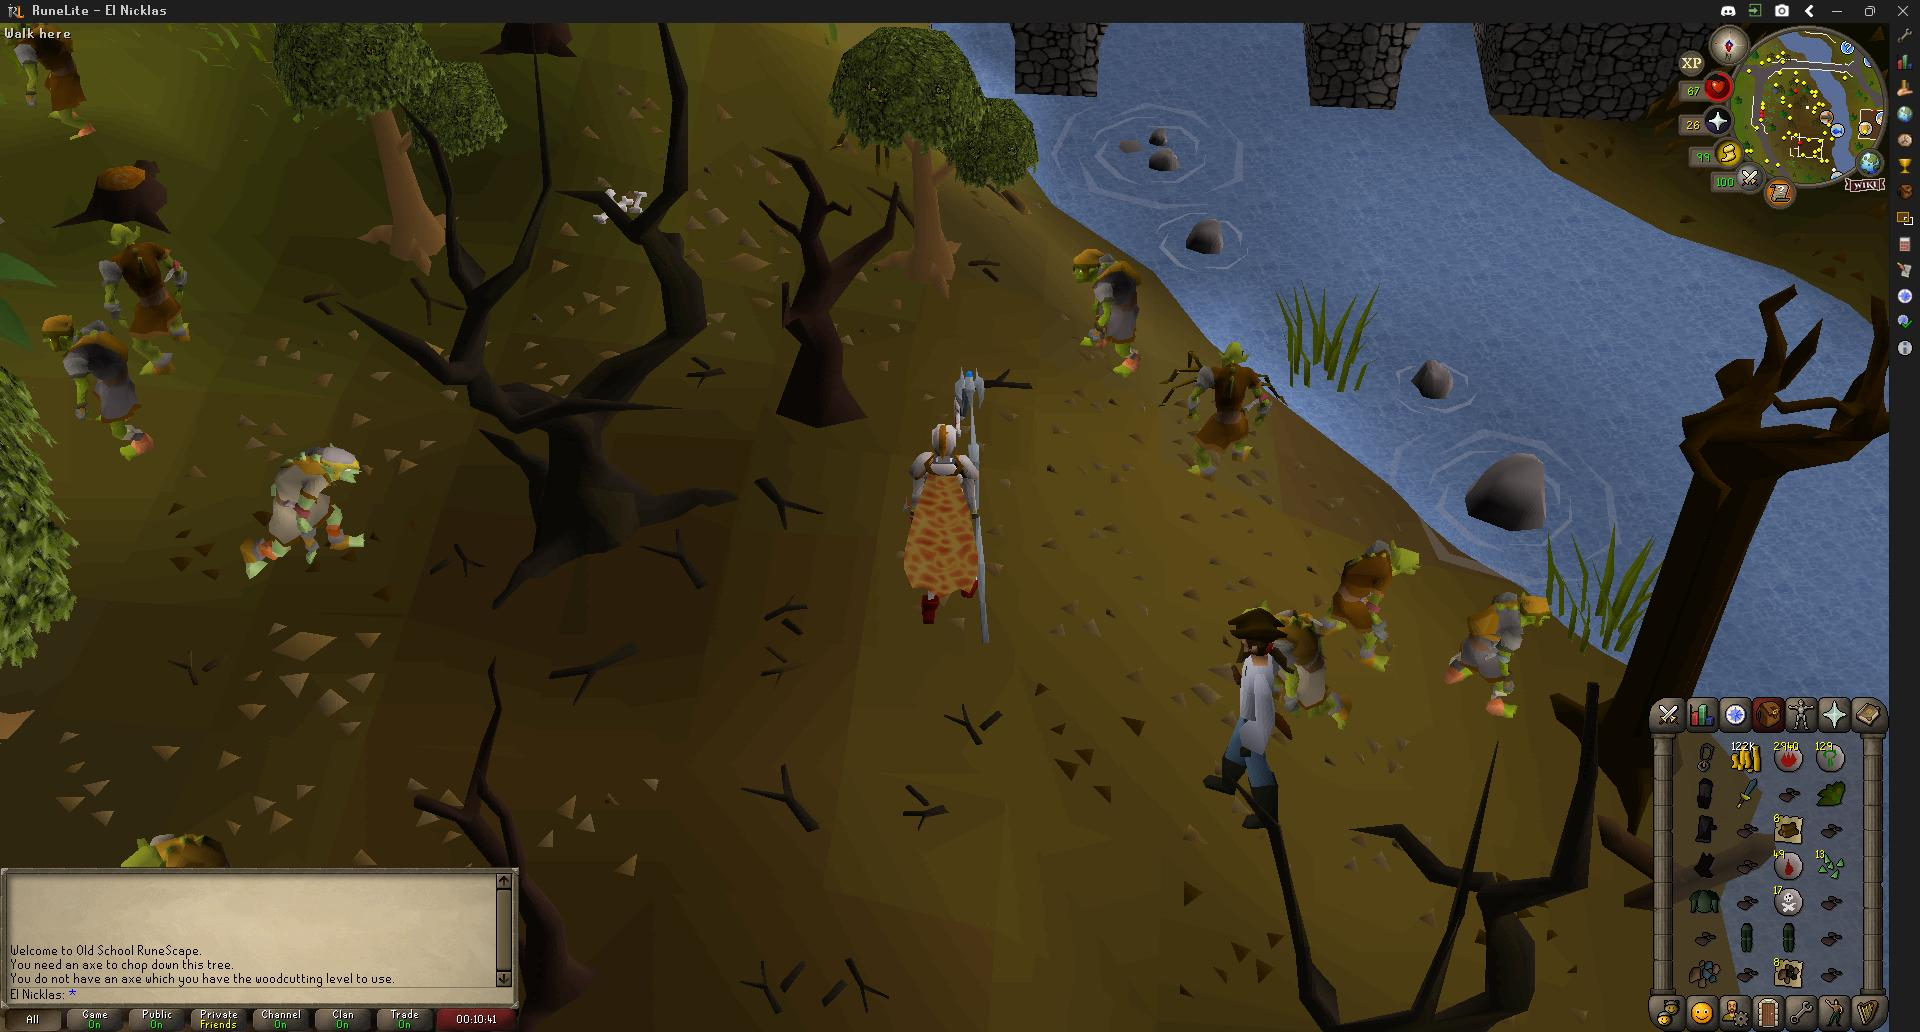Player: (900, 415, 977, 622)
goblin: (240, 442, 372, 575), (47, 317, 157, 455), (1448, 570, 1558, 704), (98, 238, 190, 371), (1196, 344, 1279, 472), (1321, 539, 1407, 646), (1285, 603, 1359, 722), (13, 29, 91, 129), (1083, 252, 1144, 377)
